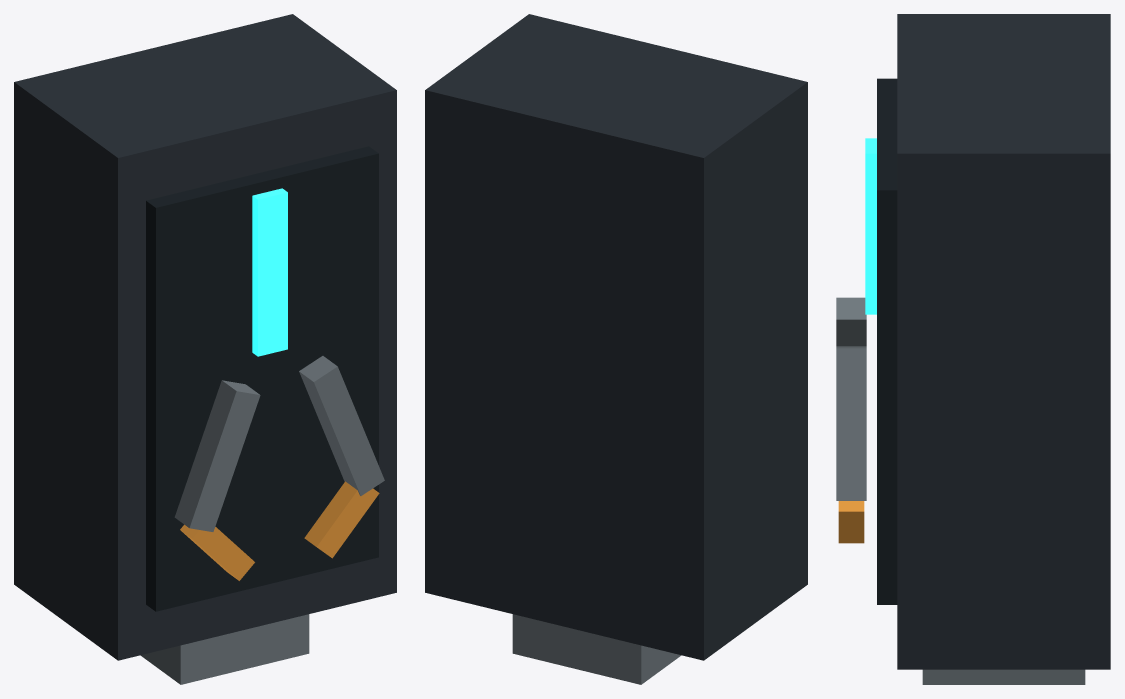
The model's file is engineer_module.glb.
3 renders of one model, left to right at view 1: azimuth 30°, elevation 25°; view 2: azimuth 150°, elevation 25°; view 3: azimuth 270°, elevation 25°, orthographic. The views are drawn at different scales.
Parts seen in each view (by area): view 1: Cartridge, CartridgeFace, ToolGlyph, LockTab, CapacityStripe, ToolGlyph.001, ToolJawGlyph.001, ToolJawGlyph; view 2: Cartridge, LockTab; view 3: Cartridge, CartridgeFace, ToolGlyph.001, LockTab, CapacityStripe, ToolGlyph, ToolJawGlyph.001.
Boxes of the visible parts, x1,y1,x2,y2 form: Cartridge: (14,14,396,660); CartridgeFace: (146,146,378,611); ToolGlyph: (174,380,260,531); LockTab: (140,614,309,684); CapacityStripe: (252,188,287,356); ToolGlyph.001: (299,356,384,495); ToolJawGlyph.001: (304,481,379,558); ToolJawGlyph: (180,524,254,580); Cartridge: (425,14,807,660); LockTab: (512,614,681,684); Cartridge: (897,14,1110,669); CartridgeFace: (877,78,897,604); ToolGlyph.001: (836,346,866,500); LockTab: (922,669,1085,684); CapacityStripe: (865,138,876,314); ToolGlyph: (836,297,866,346); ToolJawGlyph.001: (838,501,864,543).
Size of the model in its own units: 0.65 by 1.24 by 0.54.
